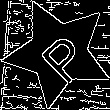P_NW: (27, 21, 89, 84)
